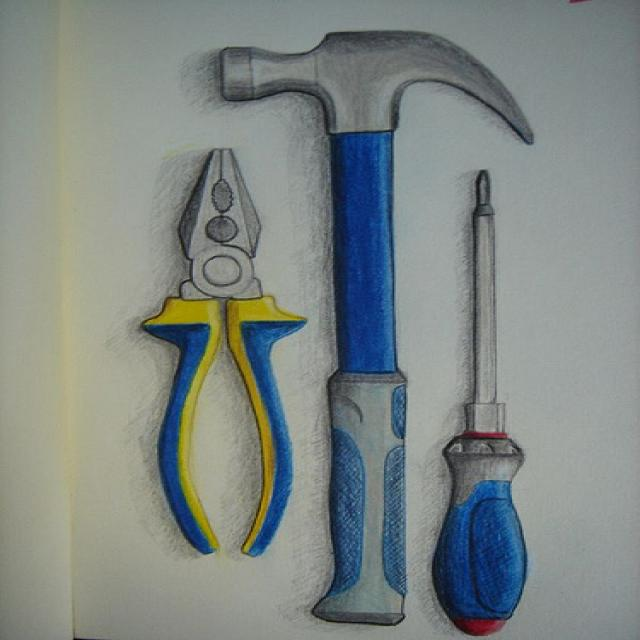hammer: (208, 12, 534, 420)
screw driver: (431, 155, 563, 622)
